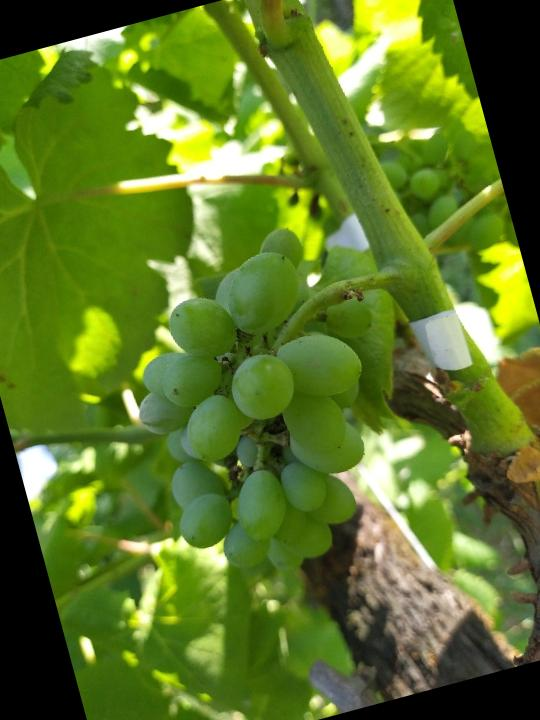grape: (91, 208, 429, 605)
